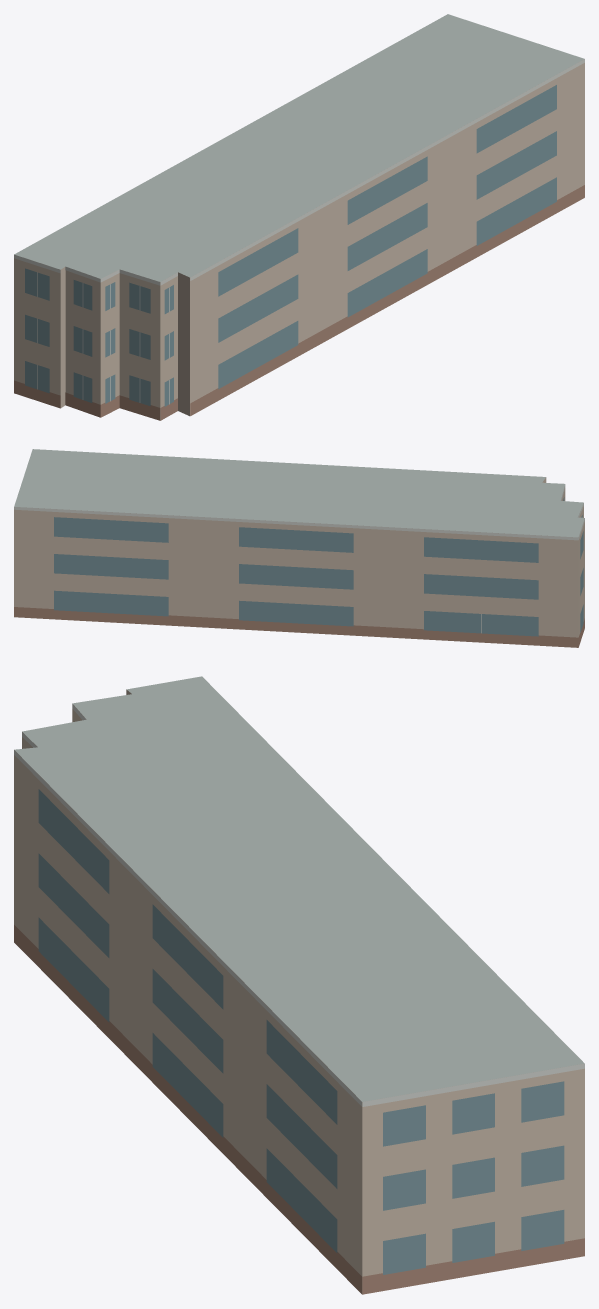
File: survey-upis-32736846.glb
3 views of the same model, one above another, from view 1: azimuth 30°, elevation 25°; view 2: azimuth 150°, elevation 25°; view 3: azimuth 270°, elevation 25° (orthographic). The views are drawn at different scales.
Parts seen in each view (by area): view 1: survey-upis-32736846.tmp; view 2: survey-upis-32736846.tmp; view 3: survey-upis-32736846.tmp.
Boxes of the visible parts, bbox=[...] form: survey-upis-32736846.tmp: bbox=[14, 14, 584, 420]; survey-upis-32736846.tmp: bbox=[14, 449, 584, 647]; survey-upis-32736846.tmp: bbox=[14, 676, 584, 1294].
Bounding box in the file's own units: 43.38 × 9.15 × 24.58.
